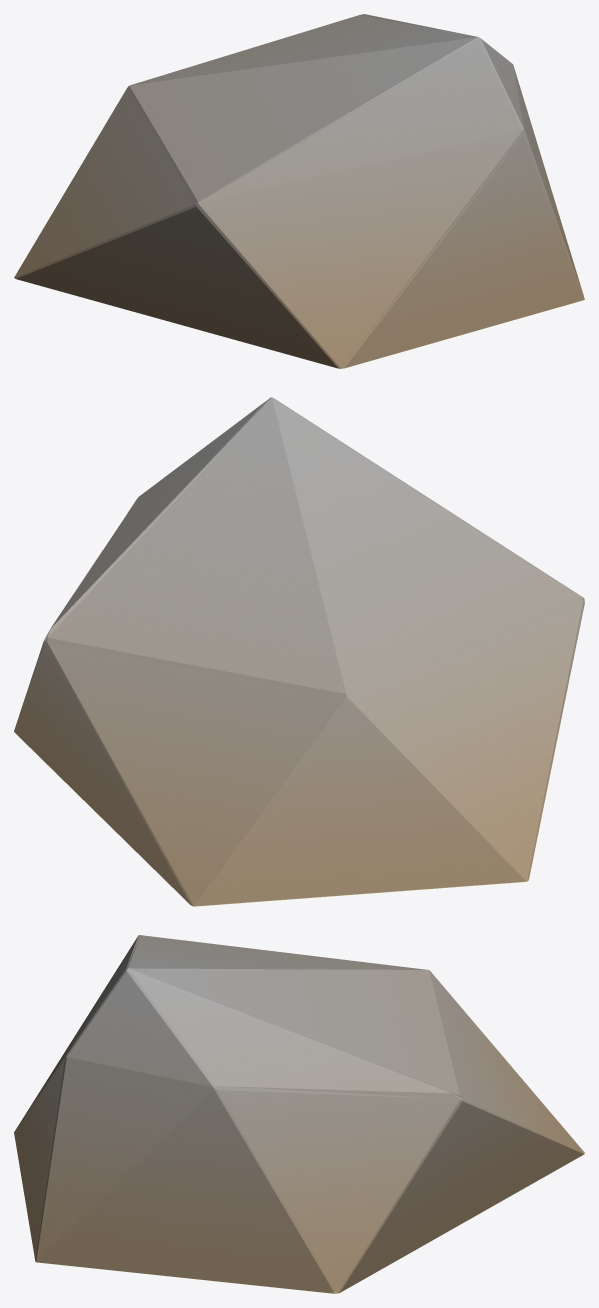
Rendered from Desert 3.fbx.
The picture shows the model from 3 angles, top to bottom: view 1: azimuth 30°, elevation 25°; view 2: azimuth 150°, elevation 25°; view 3: azimuth 270°, elevation 25°; orthographic projection. The views are drawn at different scales.
Visible parts, largest first — view 1: Desert rock 2; view 2: Desert rock 2; view 3: Desert rock 2.
Boxes of the visible parts, left/top/right/bottom form: Desert rock 2: left=14, top=14, right=584, bottom=368; Desert rock 2: left=14, top=397, right=584, bottom=906; Desert rock 2: left=14, top=935, right=584, bottom=1293.
Bounding box in the file's own units: 2.65 × 1.34 × 2.65.
